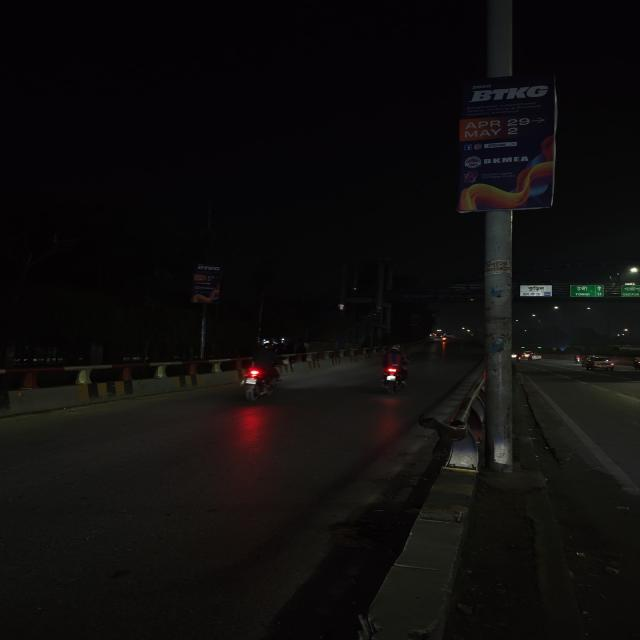car: (573, 351, 618, 373), (527, 350, 546, 362)
motorcycle: (229, 340, 288, 402), (374, 344, 416, 395), (438, 332, 451, 346)
